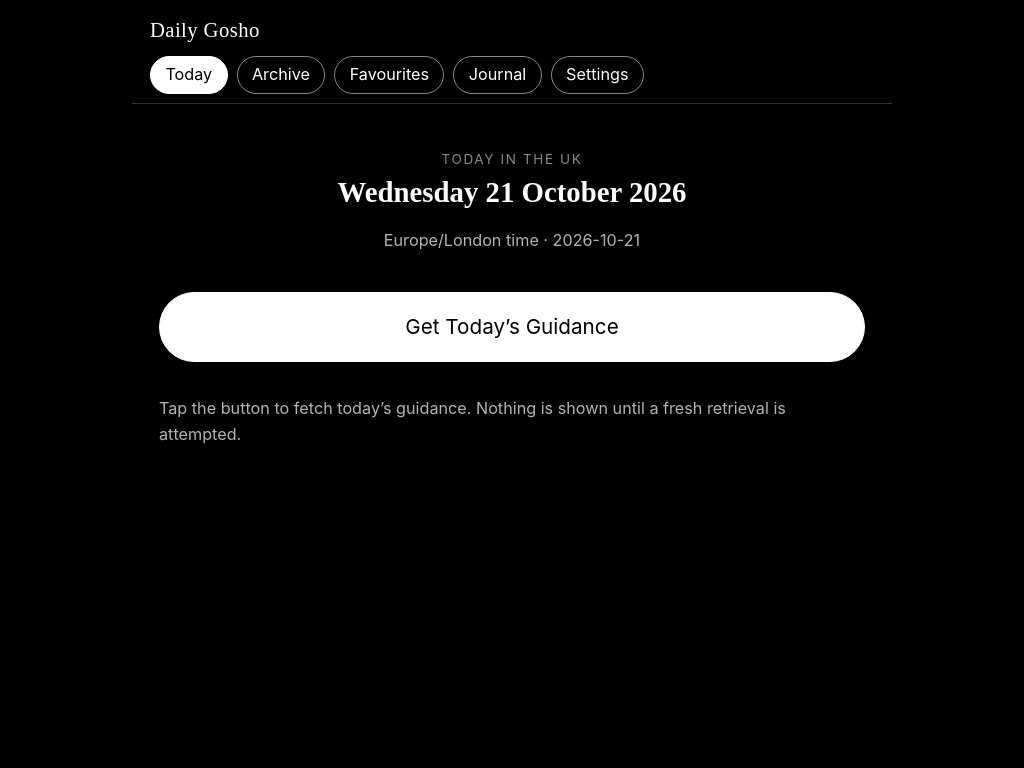
Test case: Today screen › shows a cached copy from an earlier retrieval, labelled as cached, when the network fails
The image size is (1024, 768).
What coordinates should you click on to do the following:
click the button "Get Today’s Guidance"
I would click on:
 (512, 327)
Its box is [159,292,865,362].
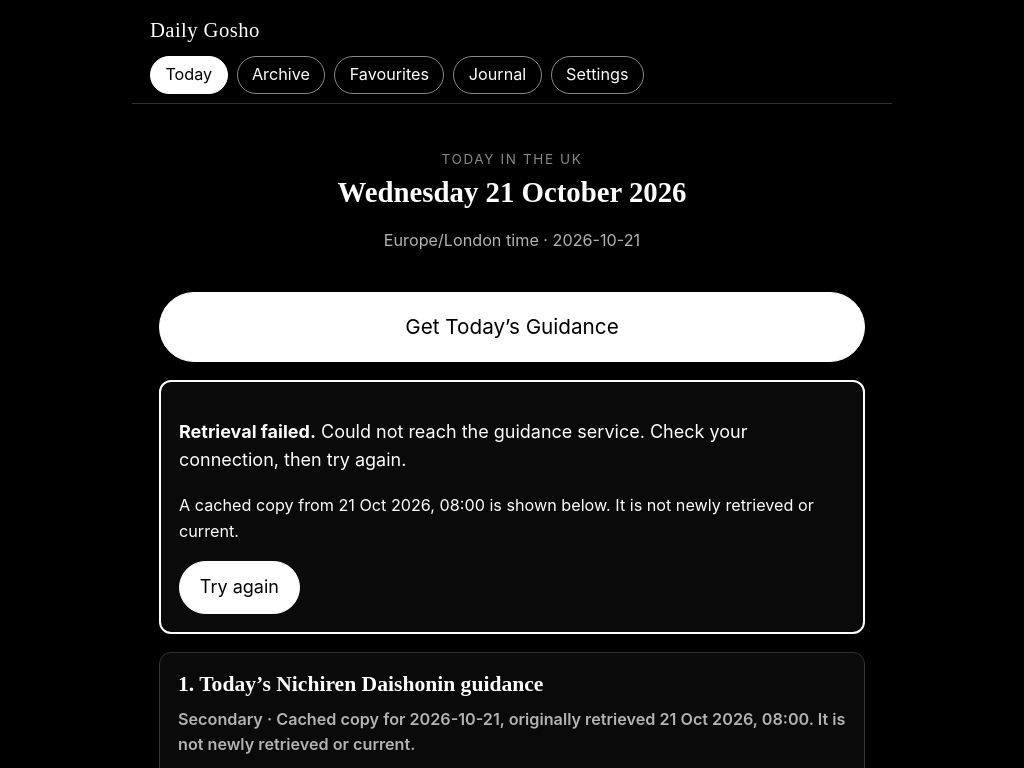
Expected: the text "not newly retrieved or current" is shown, [179,495,814,541]
